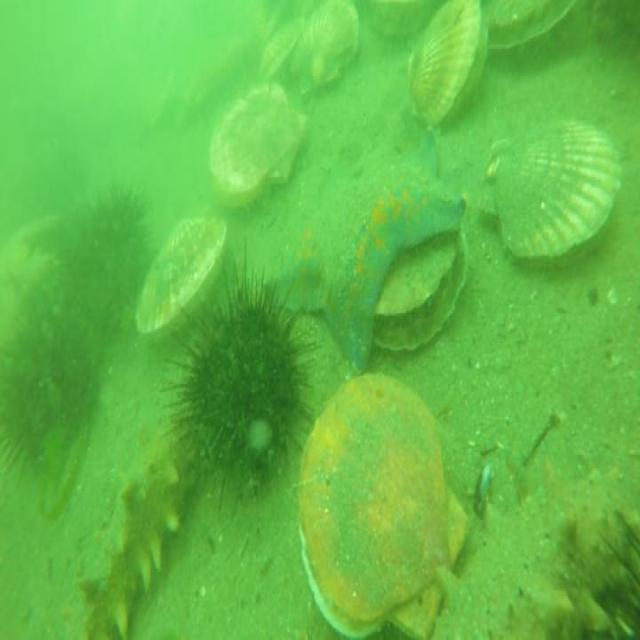echinus: (167, 272, 317, 501), (0, 271, 102, 488), (60, 180, 154, 332)
holothurian: (431, 411, 636, 640), (66, 414, 196, 638)
scallop: (290, 368, 468, 640), (477, 115, 623, 267), (374, 218, 469, 362), (134, 209, 228, 346), (204, 82, 310, 201), (404, 0, 489, 130), (288, 0, 362, 95), (488, 0, 582, 58), (254, 14, 302, 81)
starfish: (260, 115, 468, 368)
